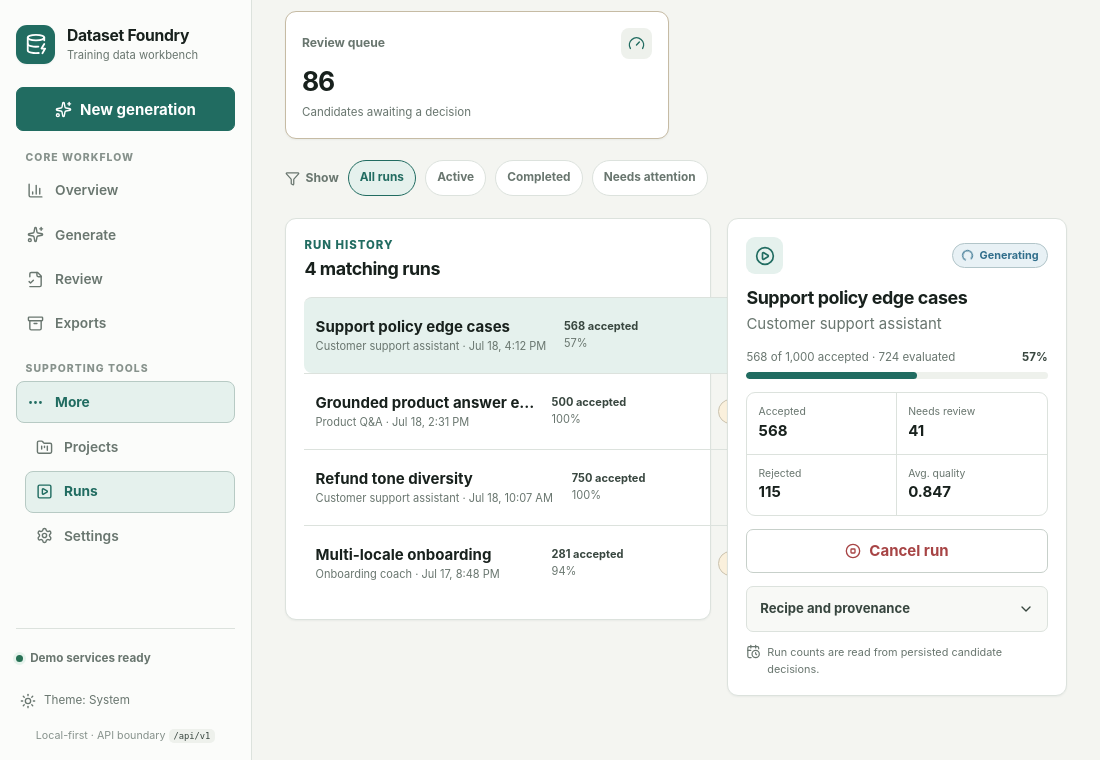
Test: Dataset Foundry workbench › measures run progress against accepted examples instead of evaluated candidates
The width and height of the screenshot is (1100, 760).
(page scrolled)
Click the button "Grounded product answer expansion".
click(570, 411)  # box [304,373,836,449]
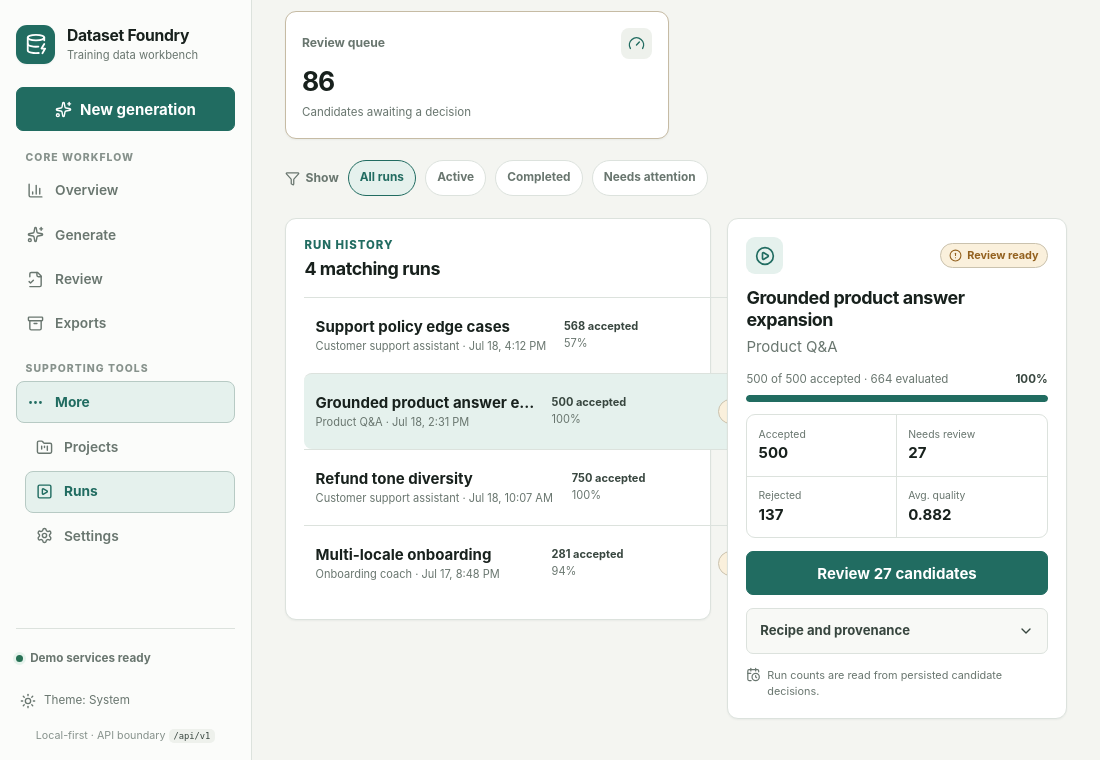
expect the text "500 of 500 accepted · 664 evaluated" is shown: met, box [746,371,948,388]
